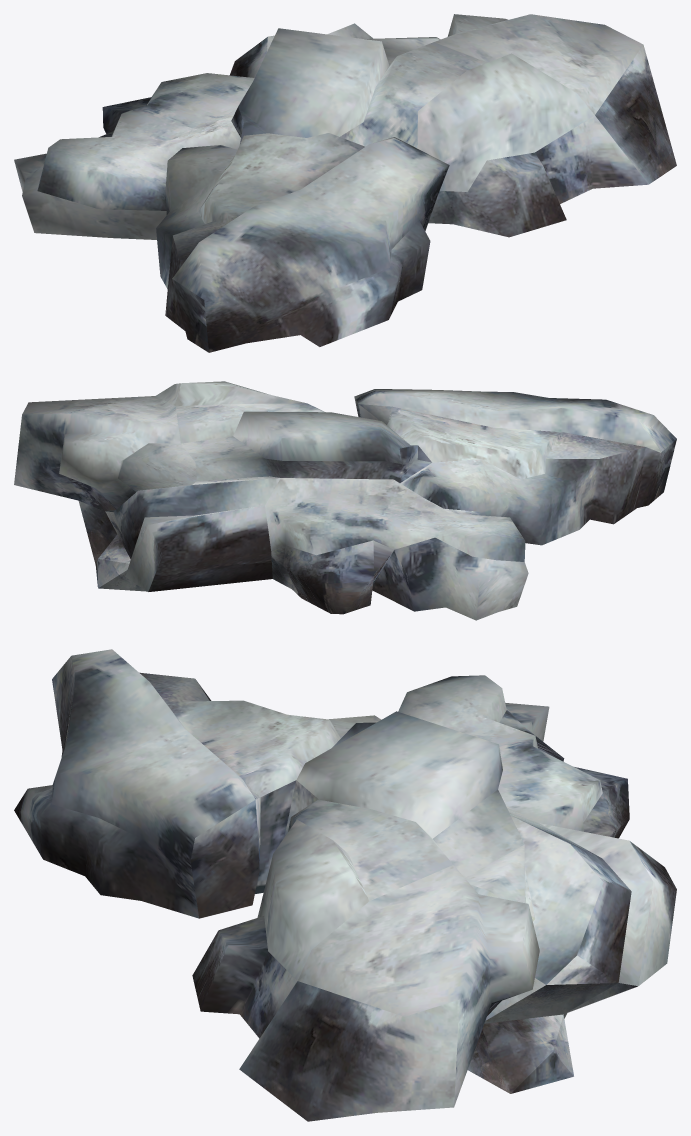
File: S_Rock_White020.FBX
3 renders of one model, top to bottom at view 1: azimuth 30°, elevation 25°; view 2: azimuth 150°, elevation 25°; view 3: azimuth 270°, elevation 25°, orthographic. The views are drawn at different scales.
Parts seen in each view (by area): view 1: S_Rock_White020; view 2: S_Rock_White020; view 3: S_Rock_White020.
Part boxes in pixels (x1=…): S_Rock_White020: x1=14, y1=14, x2=676, y2=352; S_Rock_White020: x1=14, y1=381, x2=676, y2=620; S_Rock_White020: x1=14, y1=649, x2=676, y2=1121.
Bounding box in the file's own units: 999 × 795 × 302.
